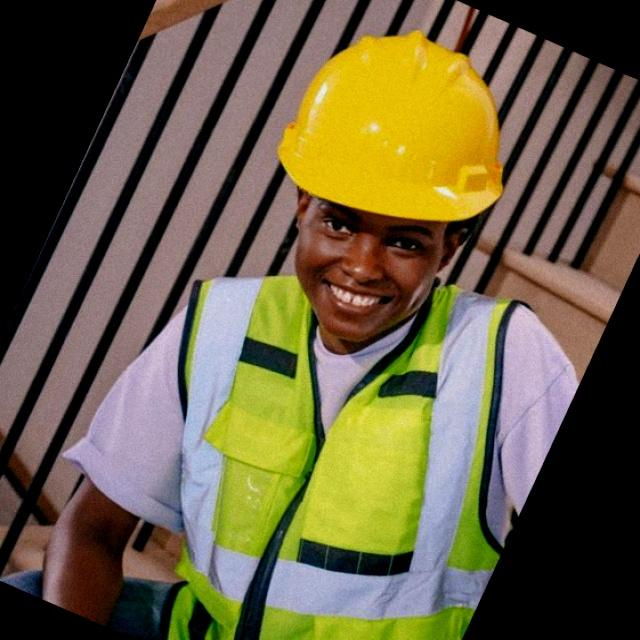helmet: (272, 42, 506, 224)
safety_vest: (168, 272, 523, 640)
